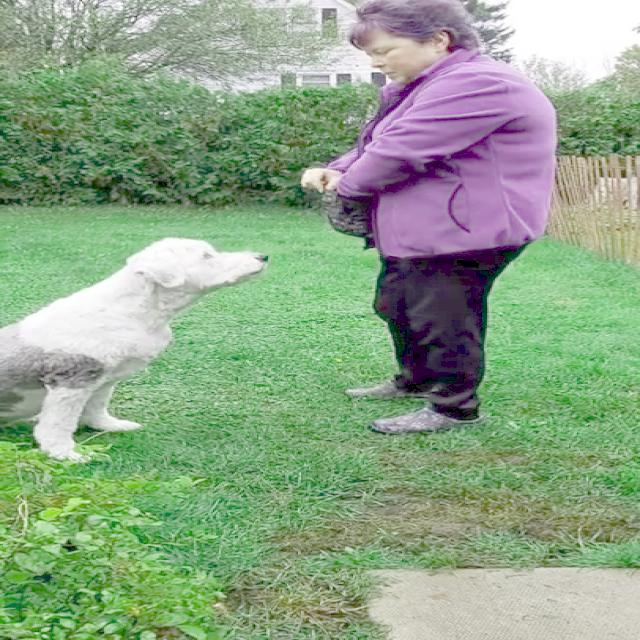Unleashed_Dog: (0, 216, 489, 461)
